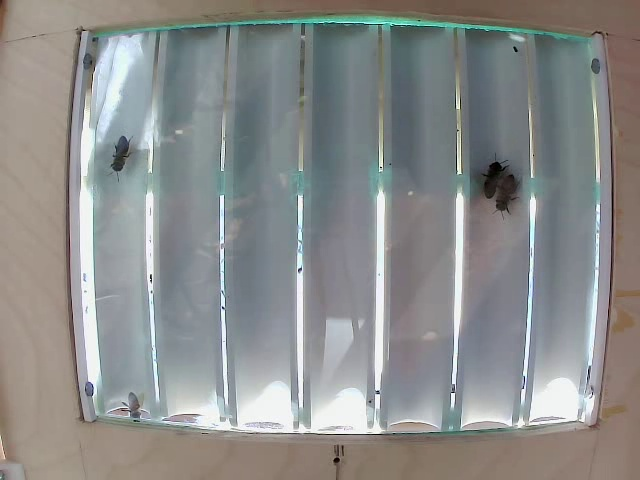bee: (112, 140, 147, 186), (492, 175, 522, 222), (474, 157, 499, 191)
